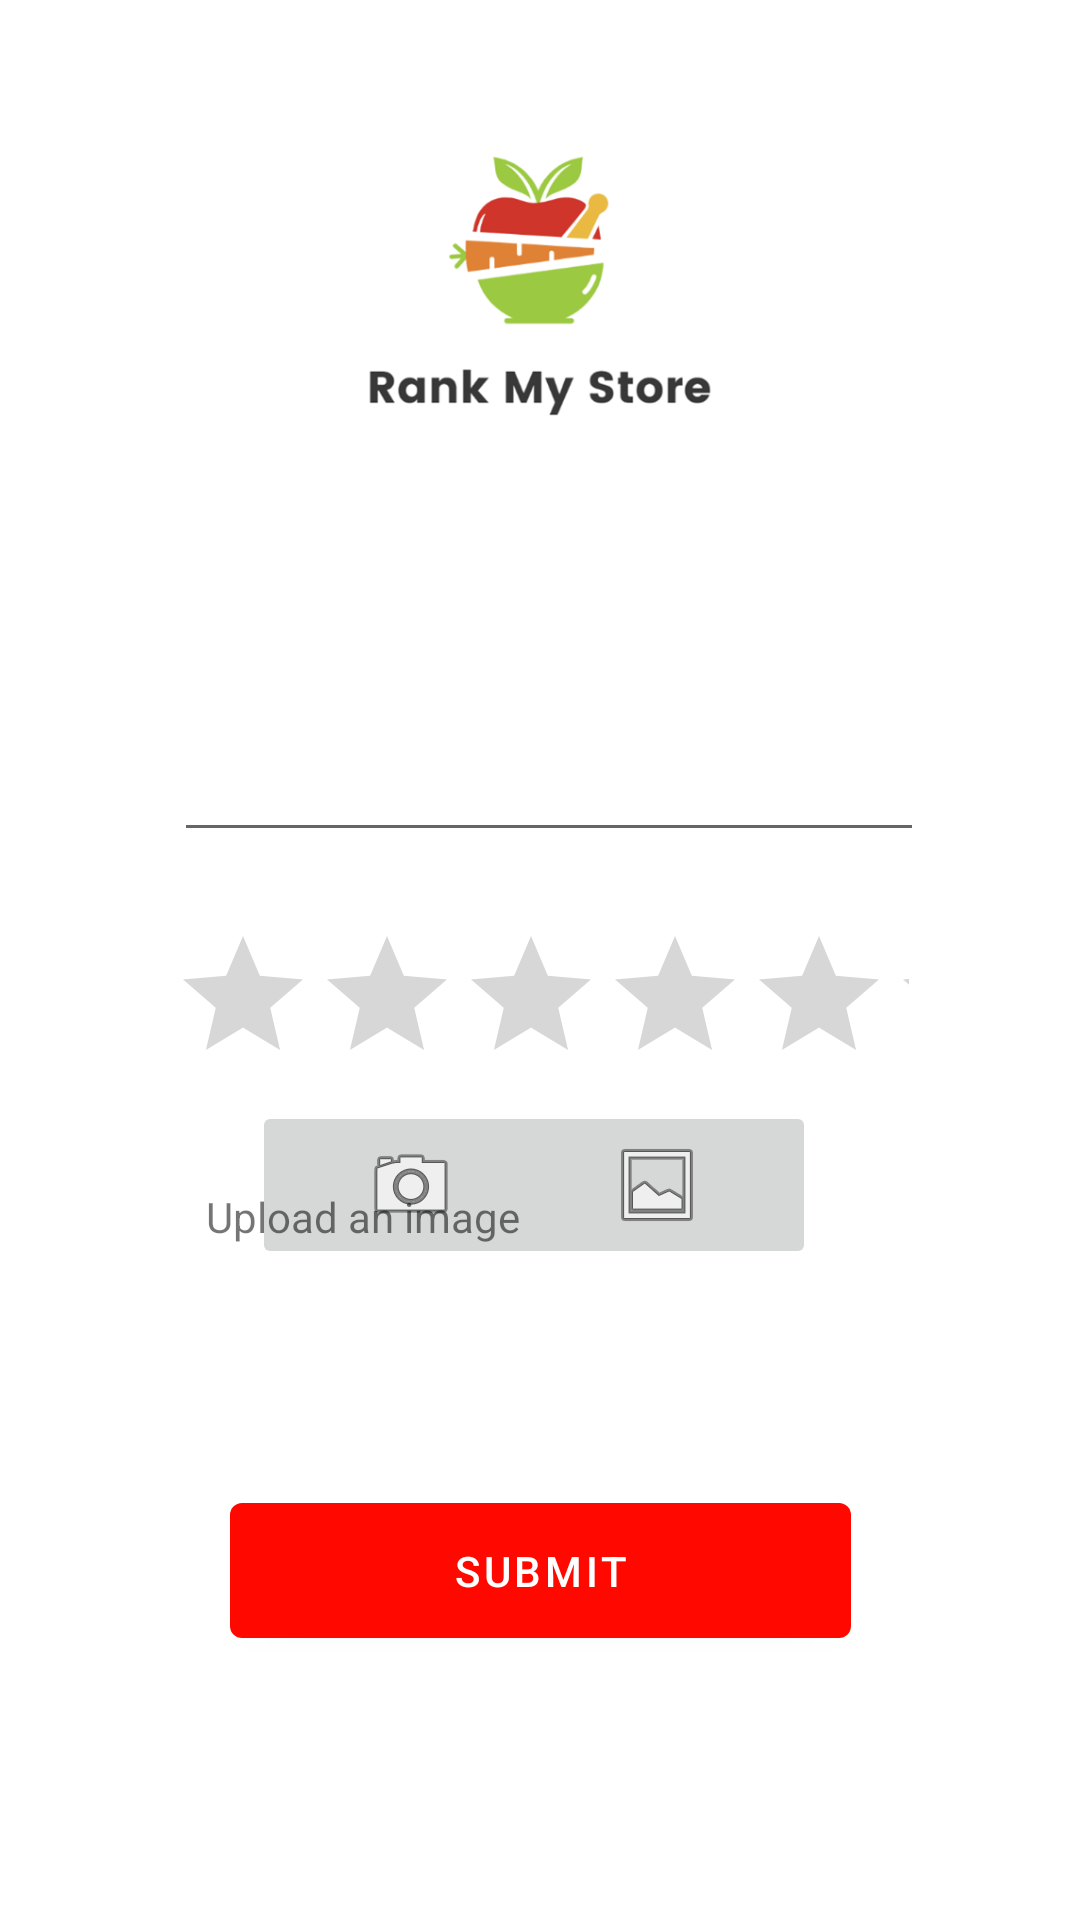

Icon click points for this 1080px×1920px phone screenshot, format point (x, y):
gallery: point (651, 1185)
